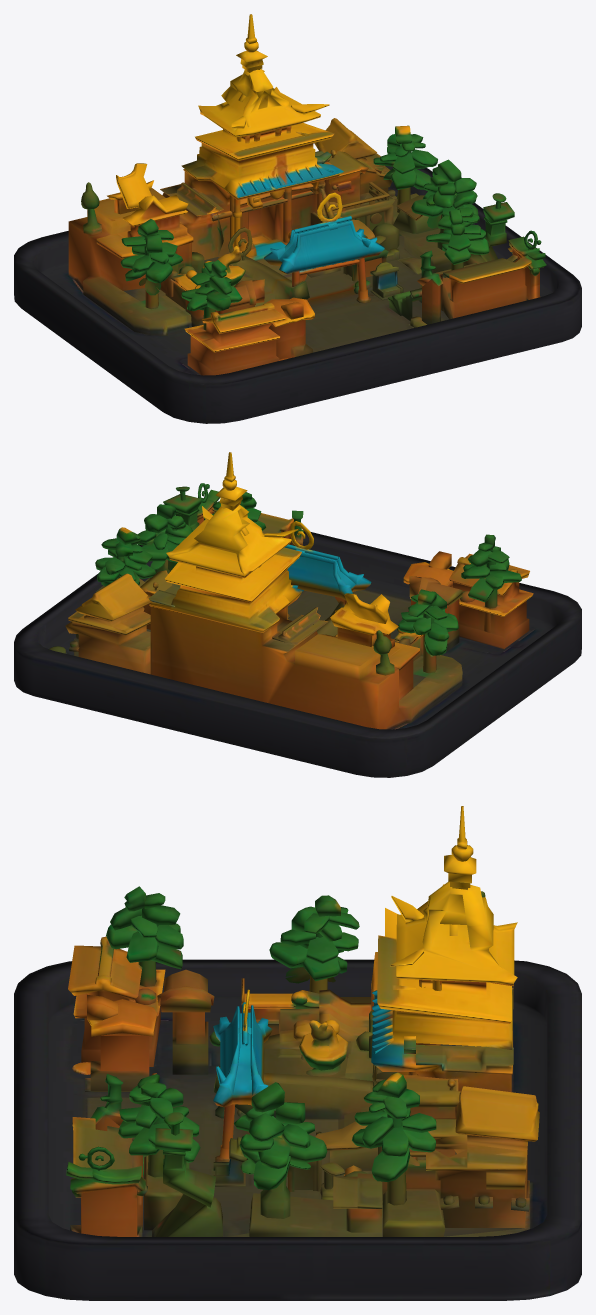
Rendered from kamakura.glb.
The picture shows the model from 3 angles, top to bottom: view 1: azimuth 30°, elevation 25°; view 2: azimuth 150°, elevation 25°; view 3: azimuth 270°, elevation 25°; orthographic projection. The views are drawn at different scales.
Visible parts, largest first — view 1: tripo_node_ec90d208-1b1f-4ec7-8bc4-e72a325c8017; view 2: tripo_node_ec90d208-1b1f-4ec7-8bc4-e72a325c8017; view 3: tripo_node_ec90d208-1b1f-4ec7-8bc4-e72a325c8017.
Part boxes in pixels (x1,y1,x2,y2): tripo_node_ec90d208-1b1f-4ec7-8bc4-e72a325c8017: (14,14,581,423); tripo_node_ec90d208-1b1f-4ec7-8bc4-e72a325c8017: (14,452,581,777); tripo_node_ec90d208-1b1f-4ec7-8bc4-e72a325c8017: (14,806,581,1300).
Bounding box in the file's own units: 0.9995 × 0.5855 × 0.8385.
Materials: 1 (1 with a texture image).
